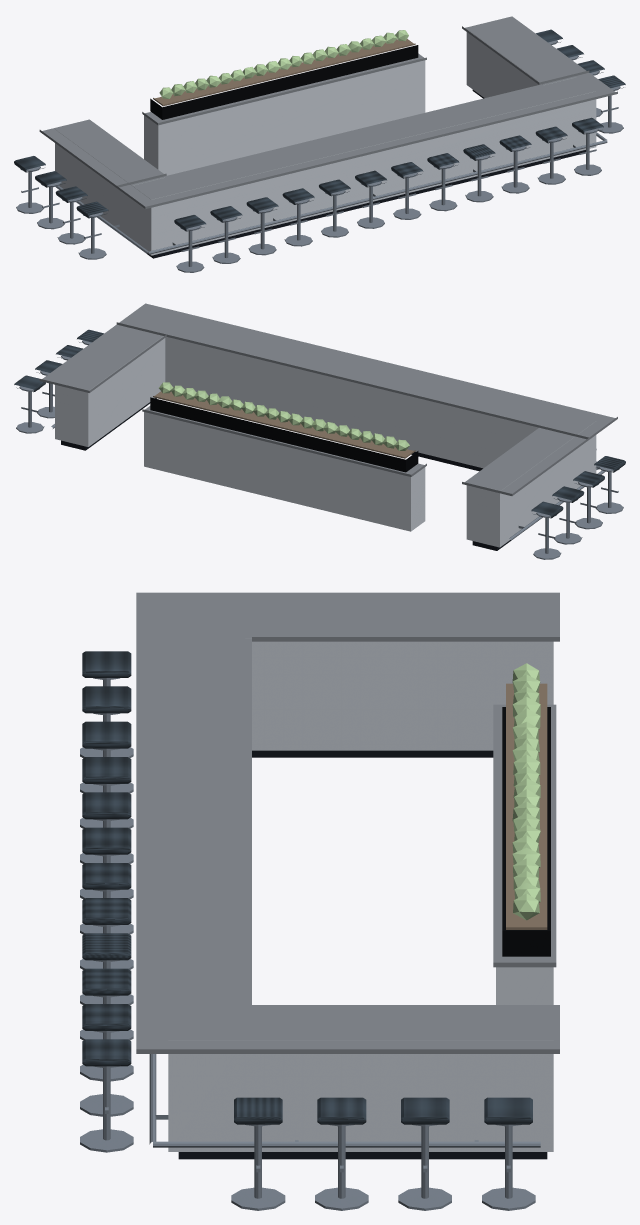
3 views of the same model, one above another, from view 1: azimuth 30°, elevation 25°; view 2: azimuth 150°, elevation 25°; view 3: azimuth 270°, elevation 25° (orthographic). The views are drawn at different scales.
Parts seen in each view (by area): view 1: Counter_Body, Counter_Top_Slate, Back_Bar, Stool_Frame, Stool_Cushions, Herb_Planter, Herb_Foliage, Herb_Soil, Foot_Rail, Back_Bar_Top, Counter_Plinth; view 2: Counter_Body, Counter_Top_Slate, Back_Bar, Herb_Planter, Stool_Frame, Herb_Foliage, Stool_Cushions, Herb_Soil, Back_Bar_Top, Counter_Plinth; view 3: Counter_Top_Slate, Counter_Body, Stool_Cushions, Stool_Frame, Herb_Foliage, Back_Bar_Top, Counter_Plinth, Herb_Soil, Foot_Rail, Herb_Planter, Back_Bar.
Part boxes in pixels (x1,y1,x2,y2): Counter_Body: [55, 29, 596, 255]; Counter_Top_Slate: [39, 16, 617, 208]; Back_Bar: [144, 60, 425, 175]; Stool_Frame: [16, 40, 623, 272]; Stool_Cushions: [14, 29, 625, 231]; Herb_Planter: [150, 45, 418, 119]; Herb_Foliage: [159, 30, 408, 98]; Herb_Soil: [153, 39, 415, 106]; Foot_Rail: [55, 132, 607, 254]; Back_Bar_Top: [142, 53, 426, 125]; Counter_Plinth: [147, 90, 585, 258]; Counter_Body: [55, 336, 596, 547]; Counter_Top_Slate: [39, 303, 617, 495]; Back_Bar: [144, 412, 425, 531]; Herb_Planter: [150, 397, 418, 472]; Stool_Frame: [16, 340, 623, 559]; Herb_Foliage: [159, 382, 409, 450]; Stool_Cushions: [14, 329, 625, 518]; Herb_Soil: [153, 391, 415, 458]; Back_Bar_Top: [142, 406, 426, 476]; Counter_Plinth: [61, 398, 510, 550]; Counter_Top_Slate: [136, 592, 559, 1053]; Counter_Body: [168, 638, 553, 1151]; Stool_Cushions: [82, 651, 532, 1124]; Stool_Frame: [80, 678, 535, 1210]; Herb_Foliage: [512, 663, 540, 920]; Back_Bar_Top: [493, 704, 556, 967]; Counter_Plinth: [178, 750, 547, 1159]; Herb_Soil: [506, 683, 547, 929]; Foot_Rail: [149, 1054, 540, 1147]; Herb_Planter: [502, 707, 550, 956]; Back_Bar: [496, 967, 553, 1004].
Size of what is drawn, in the model's own units: 9.74 by 1.43 by 3.74.
Materials: 8 (5 with a texture image).
